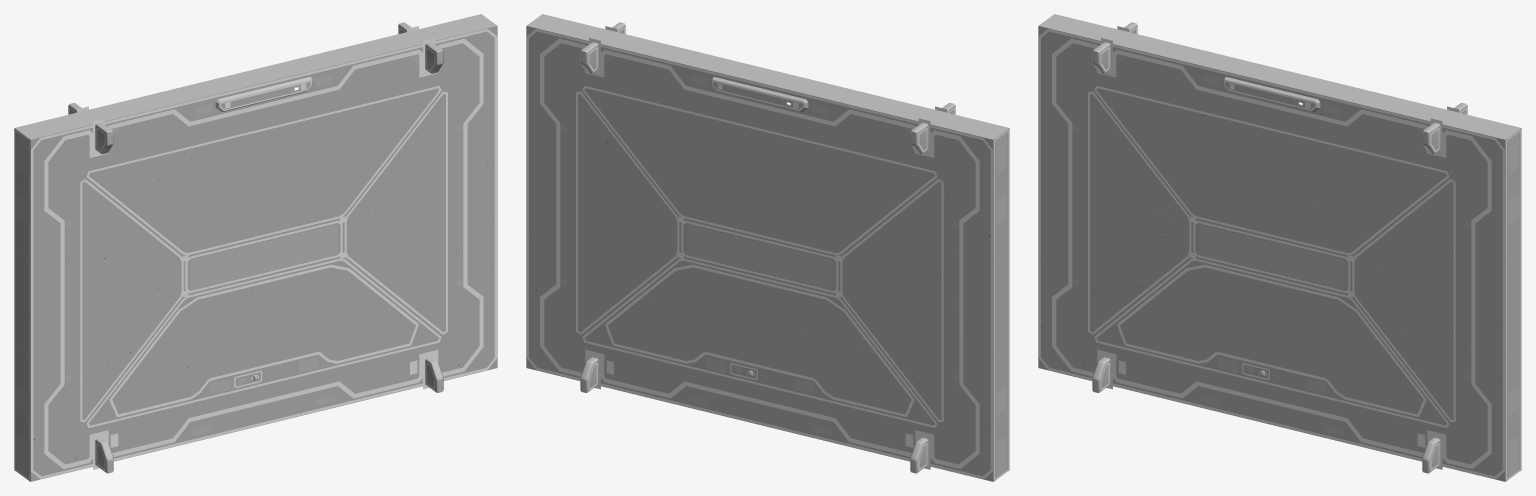
Rendered from SM_Modular_InteriorWall_Merged.fbx.
3 views of the same model, side by side, from view 1: azimuth 30°, elevation 25°; view 2: azimuth 150°, elevation 25°; view 3: azimuth 330°, elevation 25° (orthographic).
Parts seen in each view (by area): view 1: SM_Modular_InteriorWall_Merged_LOD0; view 2: SM_Modular_InteriorWall_Merged_LOD0; view 3: SM_Modular_InteriorWall_Merged_LOD0.
Part boxes in pixels (left/top/right/bottom): SM_Modular_InteriorWall_Merged_LOD0: left=14, top=14, right=497, bottom=481; SM_Modular_InteriorWall_Merged_LOD0: left=526, top=14, right=1009, bottom=481; SM_Modular_InteriorWall_Merged_LOD0: left=1038, top=14, right=1521, bottom=481.
Bounding box in the file's own units: 501 × 72.48 × 357.
